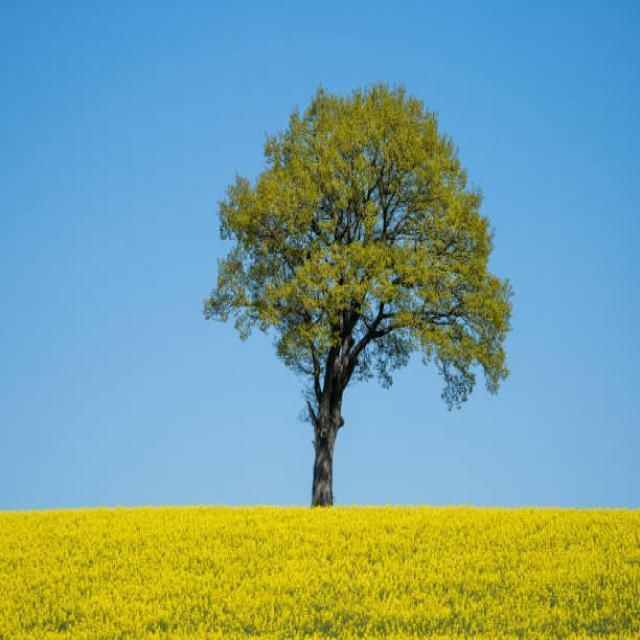tree: (192, 58, 524, 510)
